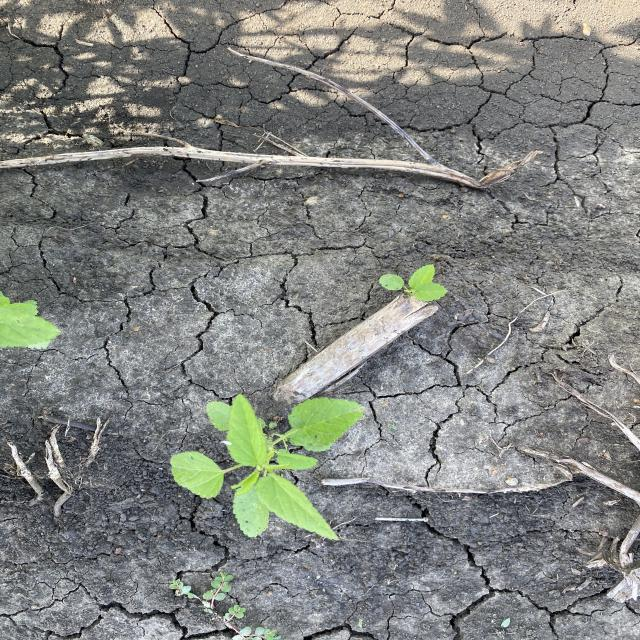PricklySida: (166, 392, 371, 542), (378, 264, 450, 302)
SpottedSpurge: (161, 572, 283, 639)
